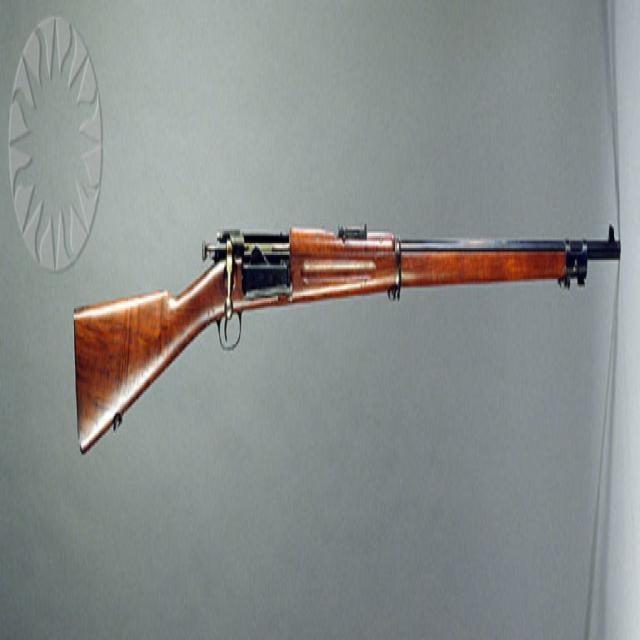weapon: (72, 227, 621, 454)
